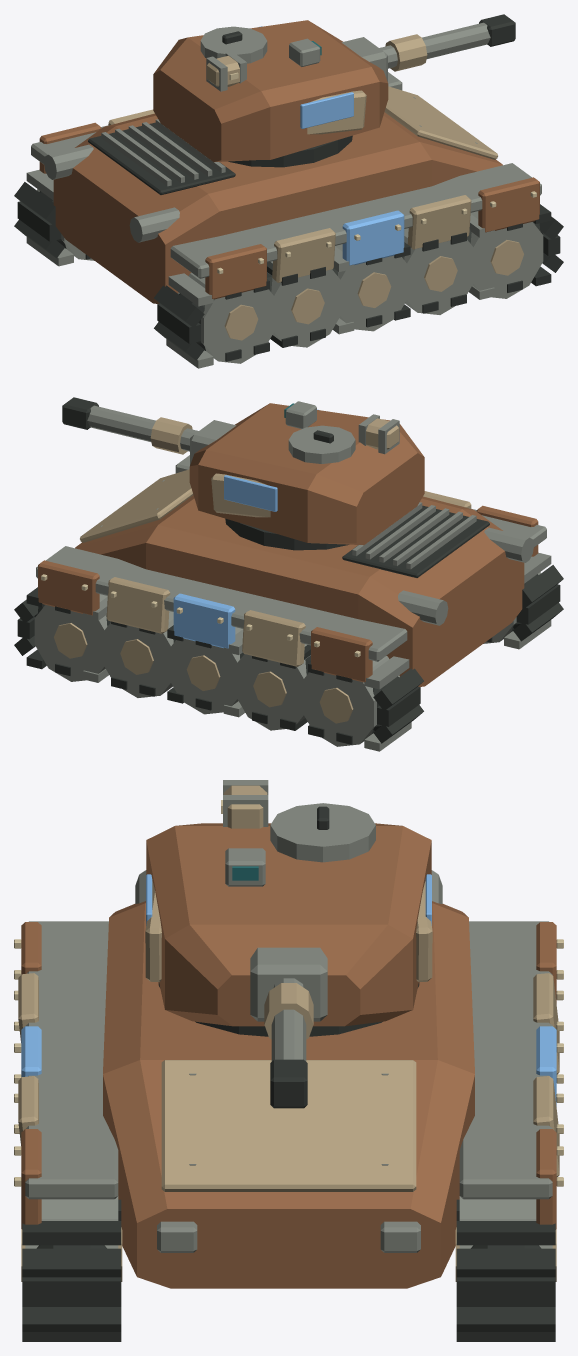
File: marauder.glb
The picture shows the model from 3 angles, top to bottom: view 1: azimuth 30°, elevation 25°; view 2: azimuth 150°, elevation 25°; view 3: azimuth 270°, elevation 25°; orthographic projection. The views are drawn at different scales.
Visible parts, largest first — view 1: Hull, Turret; view 2: Hull, Turret; view 3: Hull, Turret.
Part boxes in pixels (bbox=[...]): Hull: bbox=[14, 72, 563, 368]; Turret: bbox=[153, 14, 515, 162]; Hull: bbox=[14, 455, 563, 751]; Turret: bbox=[62, 397, 424, 545]; Hull: bbox=[14, 870, 563, 1341]; Turret: bbox=[145, 780, 432, 1108].
Size of the model in its own units: 2.4 by 1.31 by 1.76.
